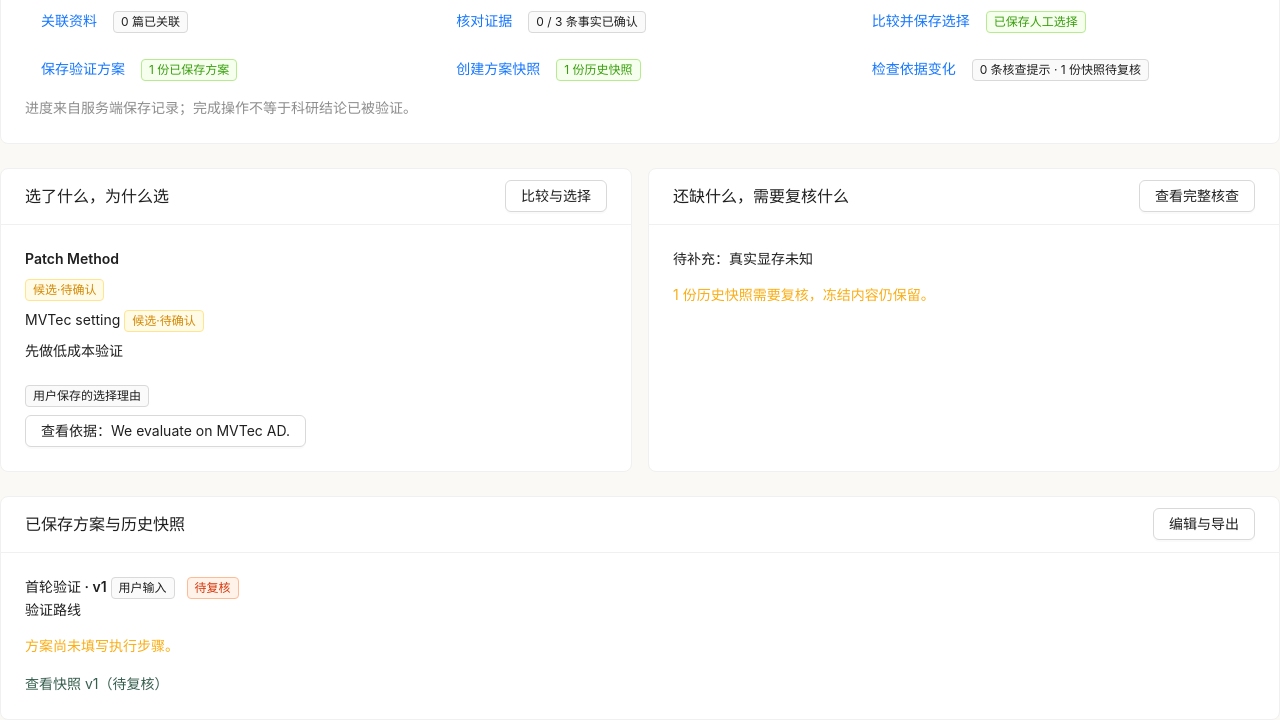
Test: overview shows saved rationale, unknowns and immutable snapshot links
The image size is (1280, 720).
(page scrolled)
Check: the text "先做低成本验证" is shown, box [25,342,123,359]
Click the button "查看依据：We evaluate on MVTec AD.".
click(165, 431)  # box [25,415,306,447]
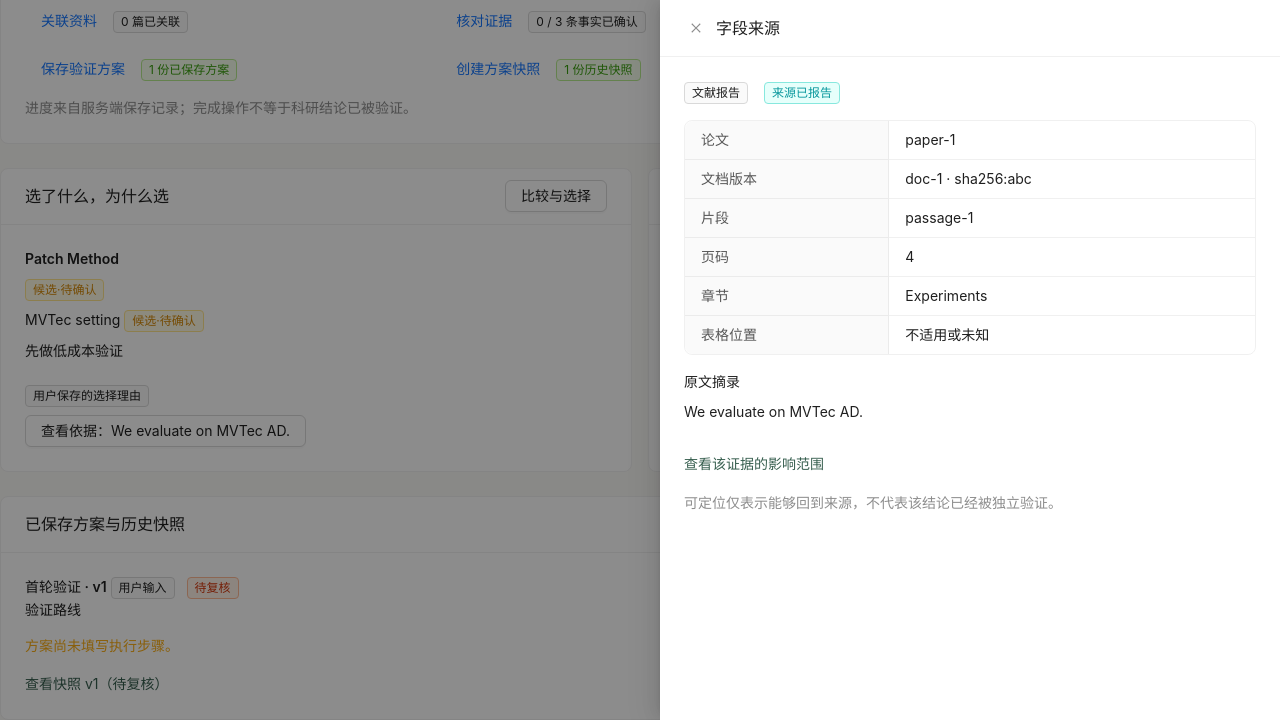
Check: the text "We evaluate on MVTec AD." is shown, box [684,403,863,420]
